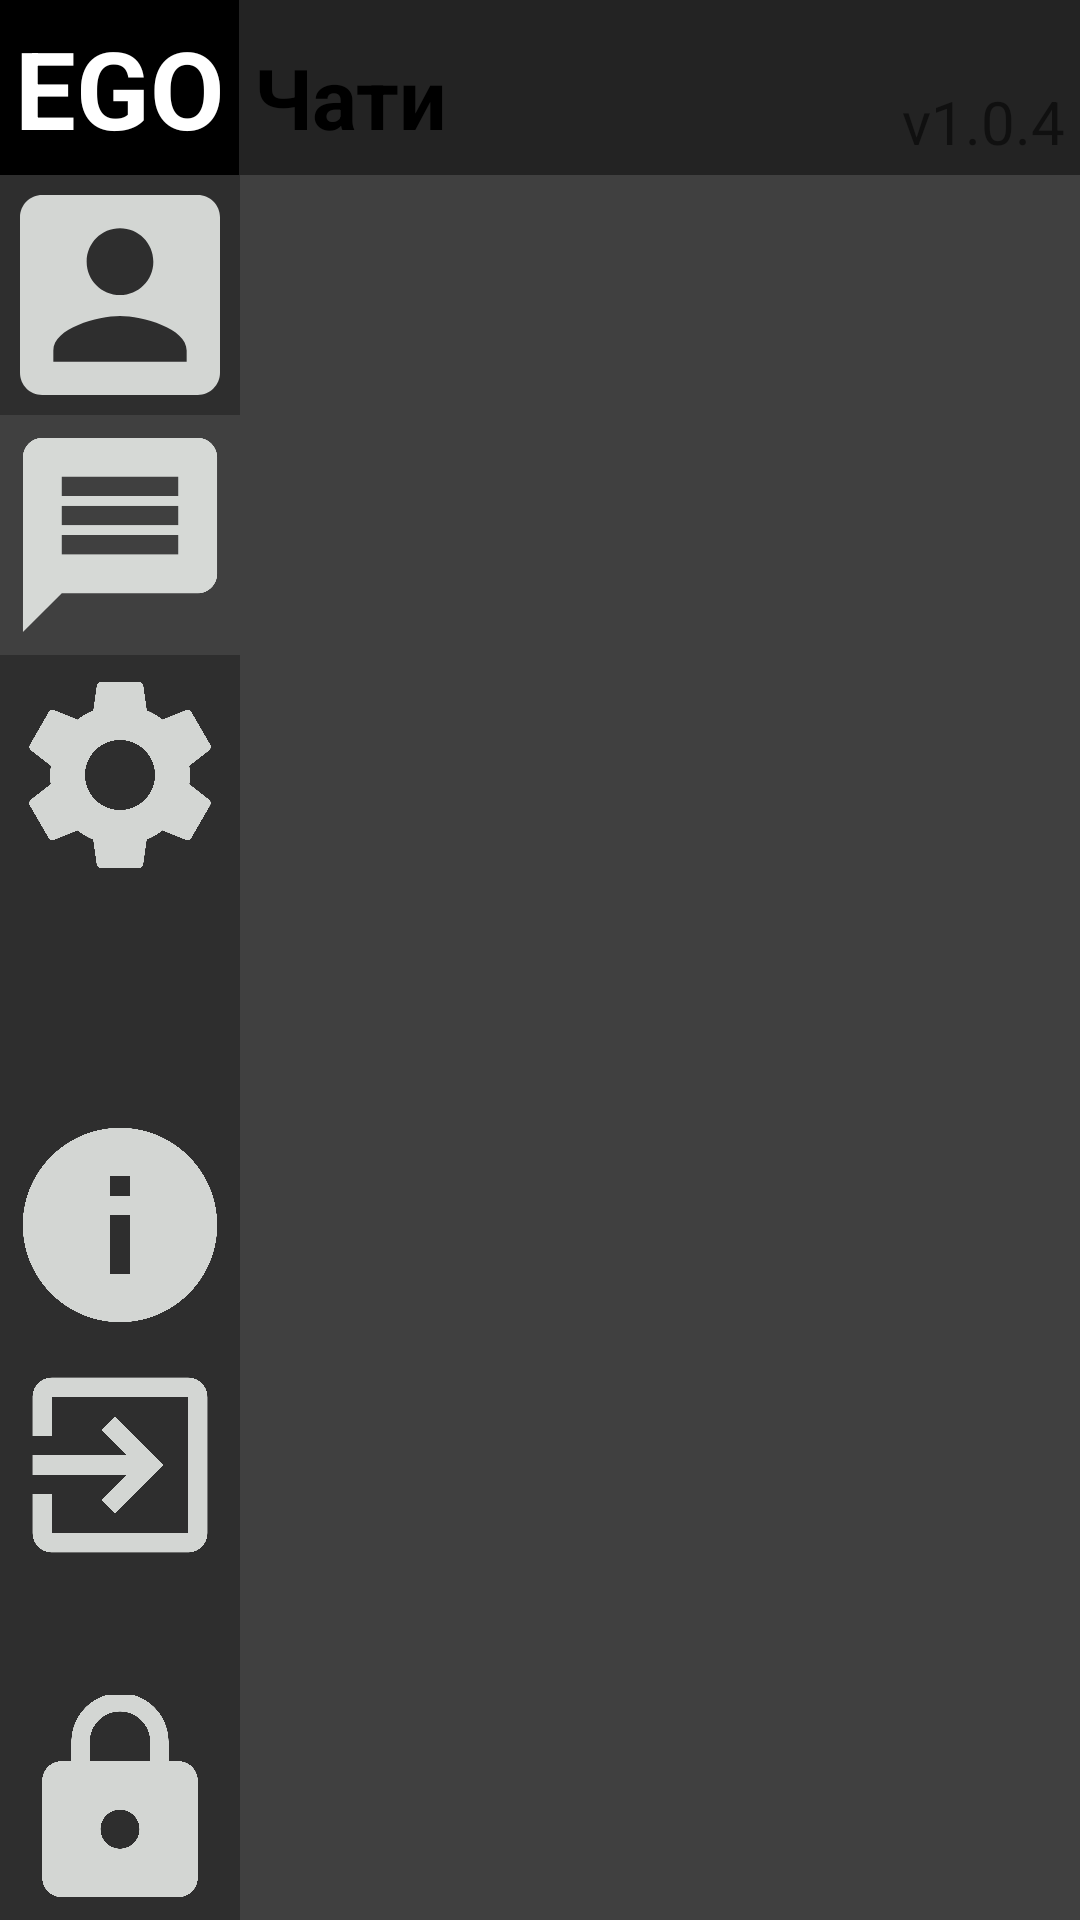

Icons on this 1080 × 1920 Android screen, each with the point to tap as [x,y]:
info: [120,1225]
lock: [120,1796]
message: [120,535]
profile: [120,295]
settings: [120,775]
